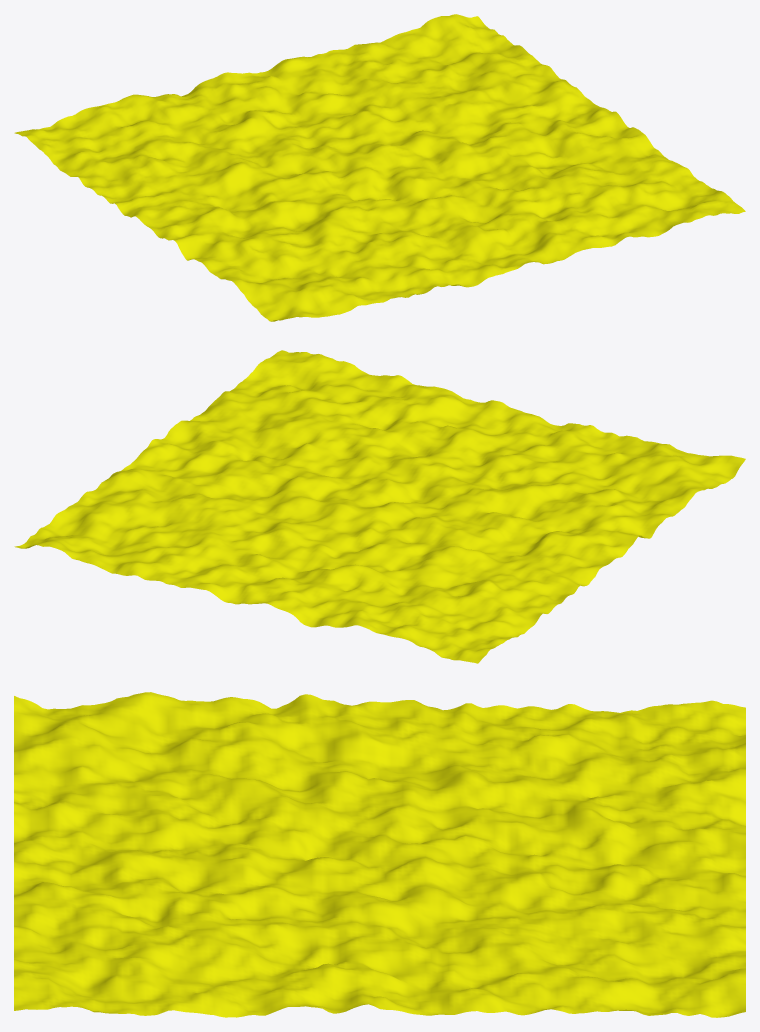
File: ground.glb
3 views of the same model, one above another, from view 1: azimuth 30°, elevation 25°; view 2: azimuth 150°, elevation 25°; view 3: azimuth 270°, elevation 25° (orthographic). The views are drawn at different scales.
Parts seen in each view (by area): view 1: Plane.001; view 2: Plane.001; view 3: Plane.001.
Part boxes in pixels (x1,y1,x2,y2): Plane.001: (14, 14, 745, 321); Plane.001: (14, 350, 745, 663); Plane.001: (14, 692, 745, 1017).
Size of the model in its own units: 64.69 by 2.55 by 64.69.
